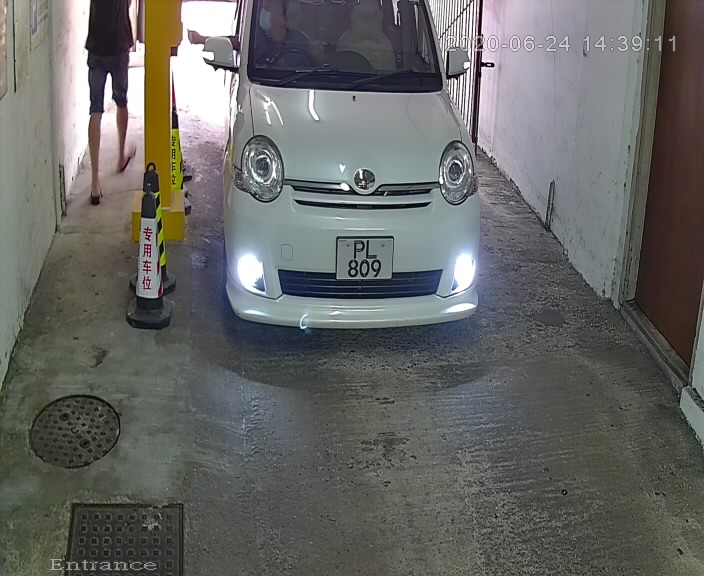Car: (196, 1, 499, 344)
License Plate: (321, 225, 404, 289)
